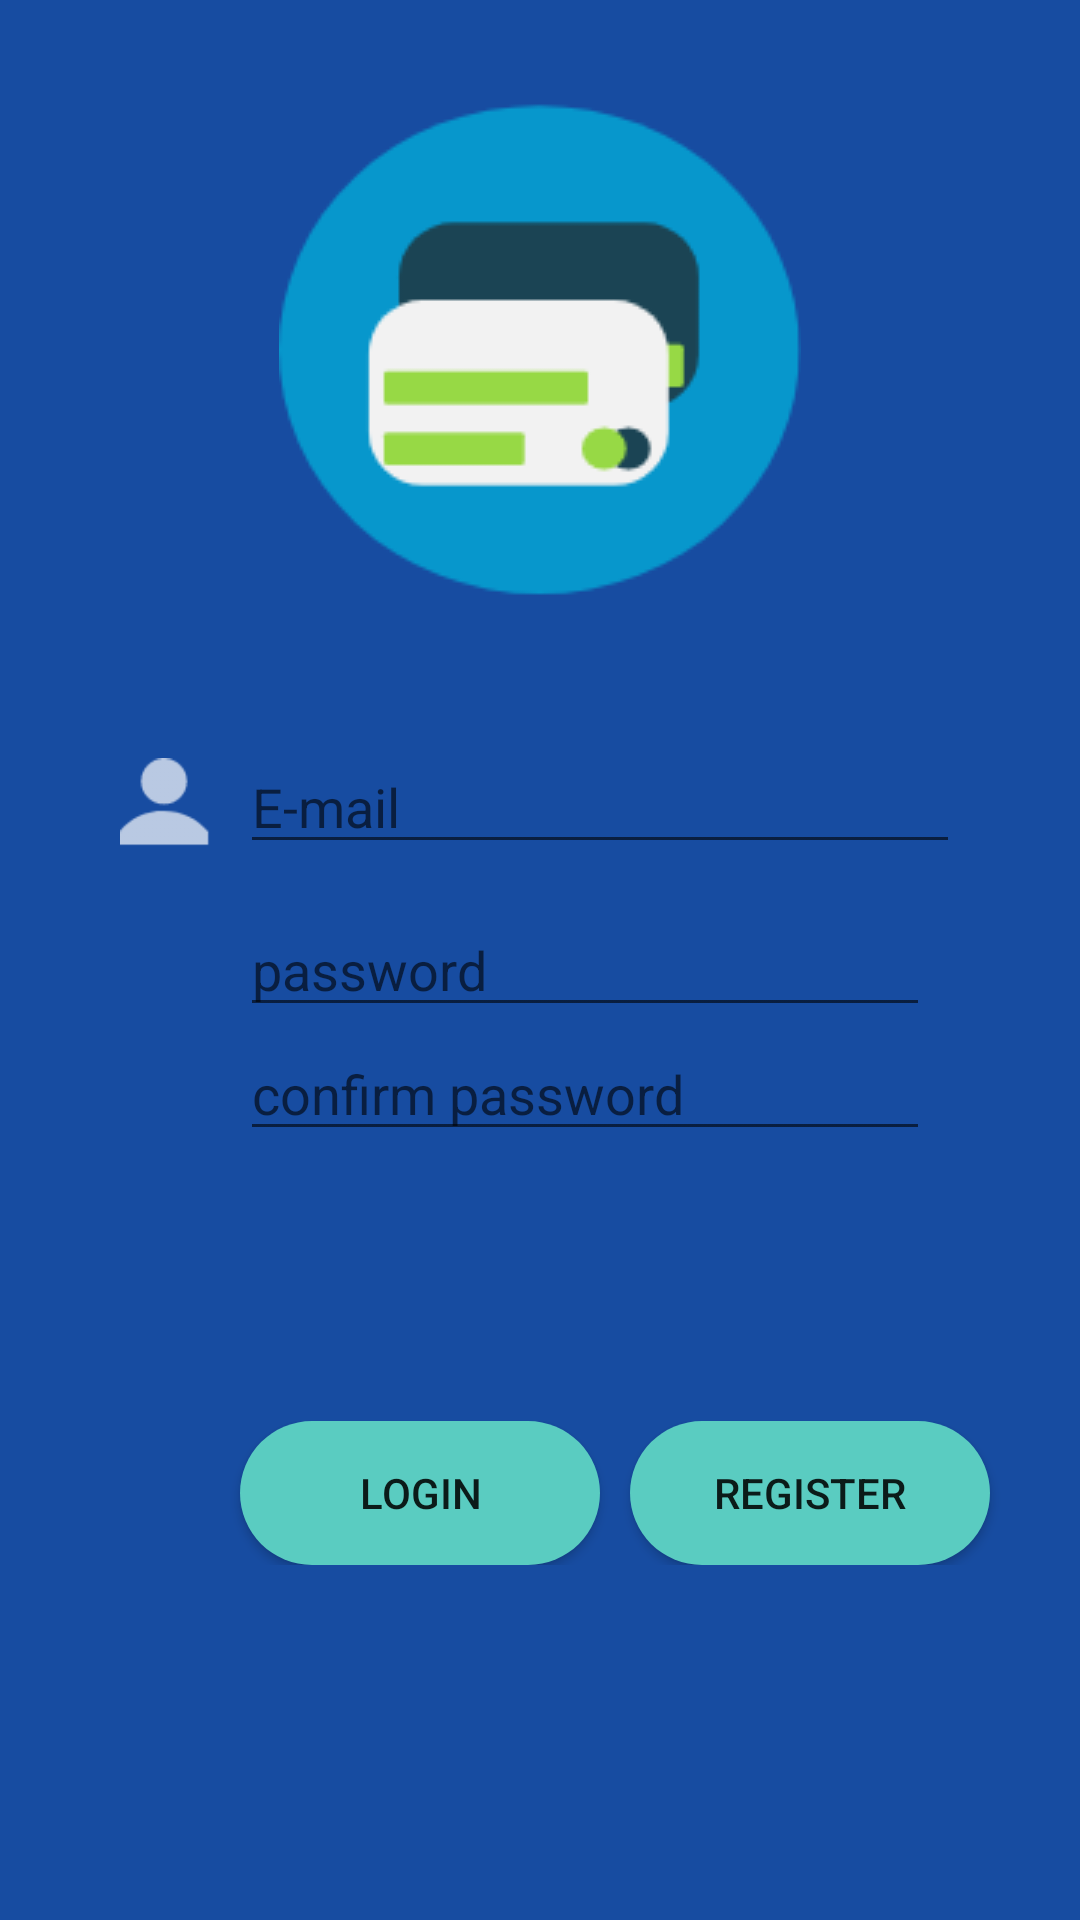

Named icons in this screenshot (1080*1920) and their bounding boxes, [x1, y1, x2, y2]:
user: [120, 758, 209, 845]
